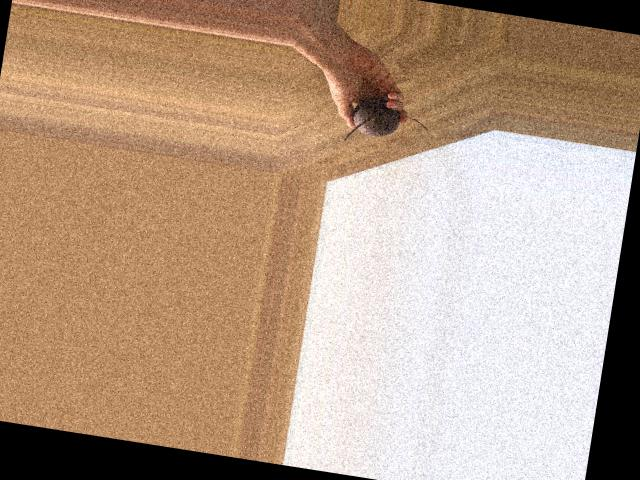beet: (345, 94, 431, 152)
